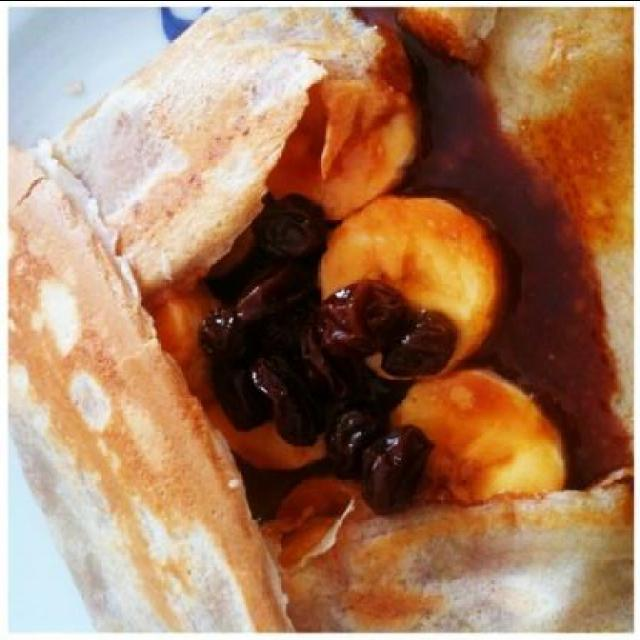Pancake: (8, 138, 294, 634), (388, 8, 636, 477), (57, 2, 389, 298), (284, 474, 636, 634)
